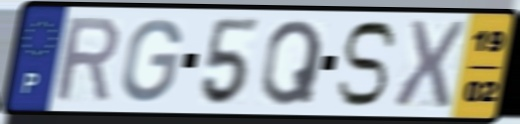5: (197, 15, 261, 108)
G: (119, 16, 185, 105)
Q: (258, 17, 326, 109)
R: (53, 14, 121, 106)
S: (333, 18, 400, 110)
X: (389, 18, 468, 113)
